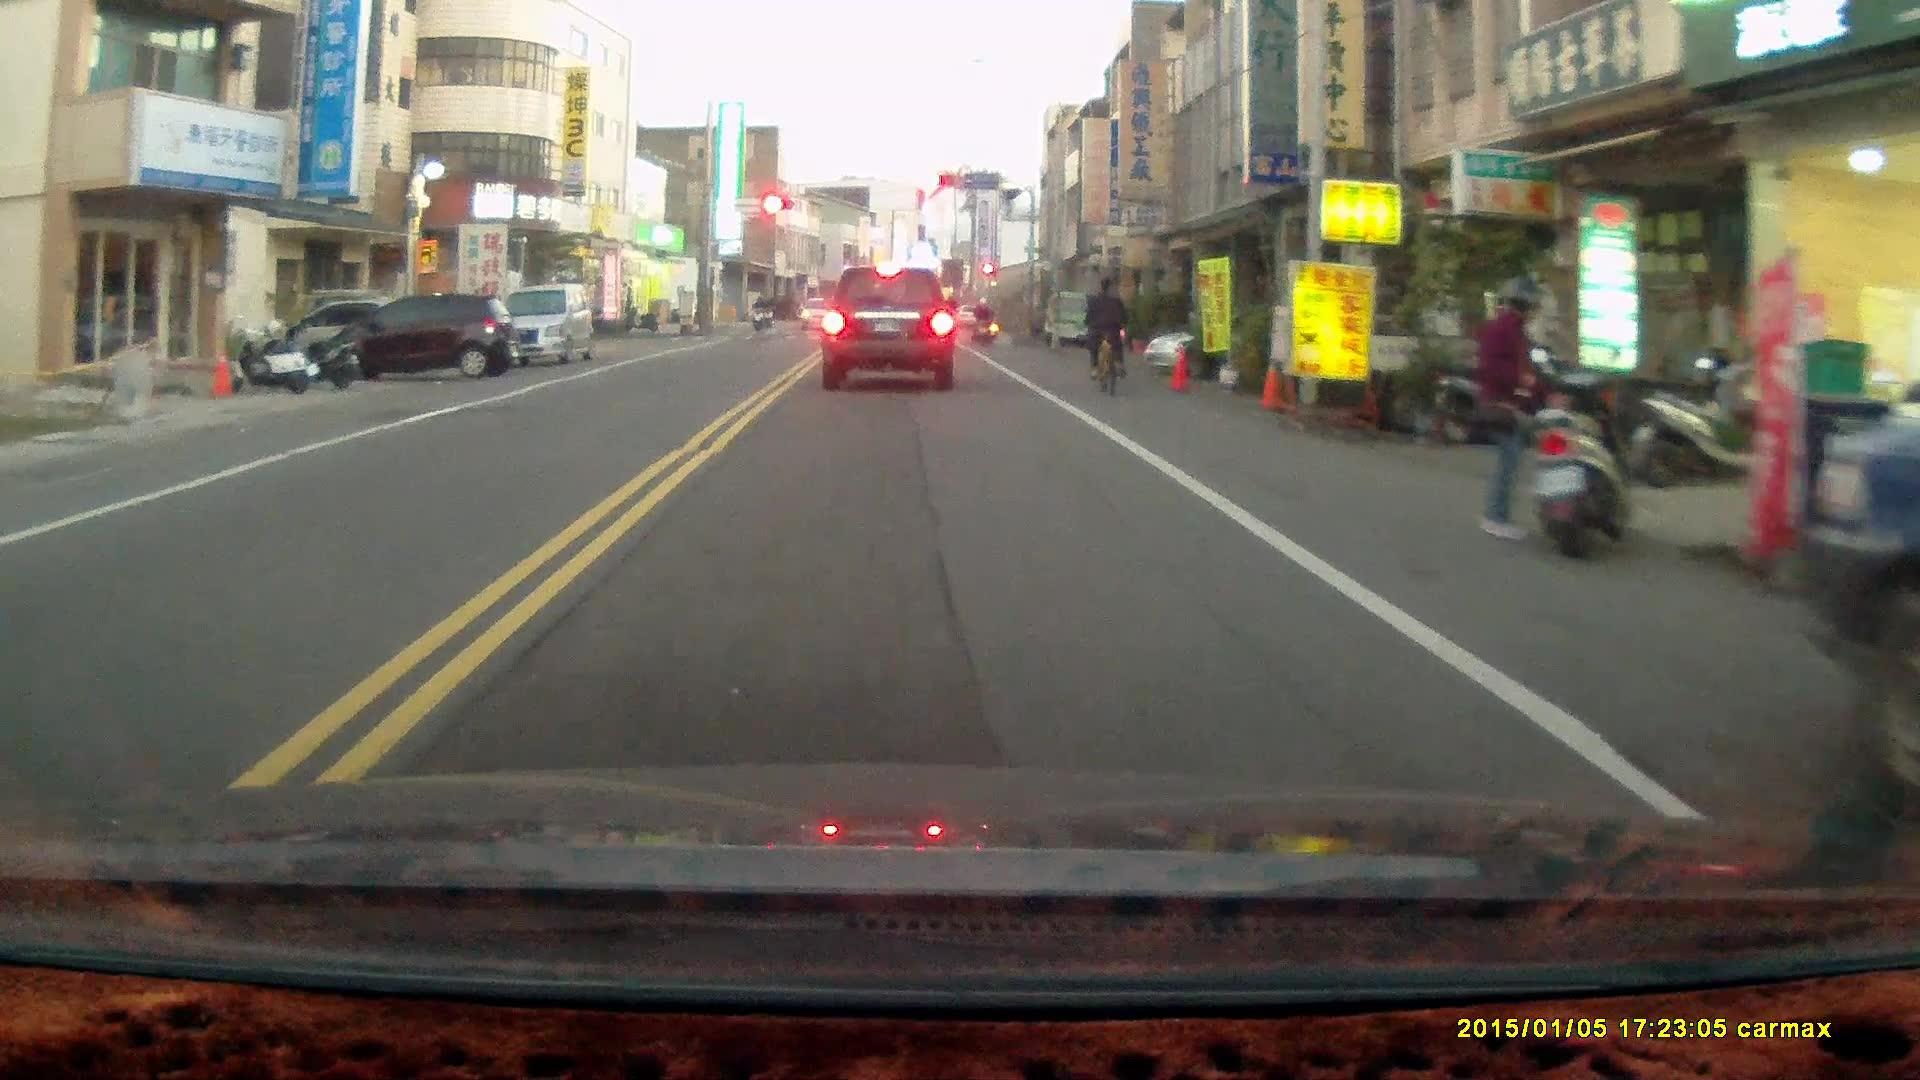pedestrian: (1473, 274, 1558, 539)
rider: (1084, 274, 1132, 396), (970, 293, 995, 346), (748, 292, 770, 332)
vehicle: (1787, 406, 1920, 836), (325, 290, 518, 387), (820, 265, 958, 393), (1143, 310, 1369, 380), (473, 282, 597, 367)
